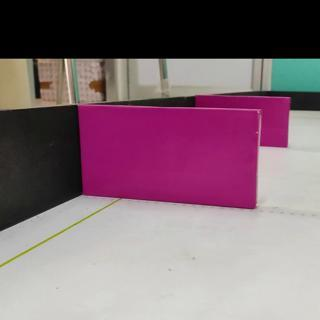xparking: (83, 105, 257, 208), (265, 96, 287, 148)
